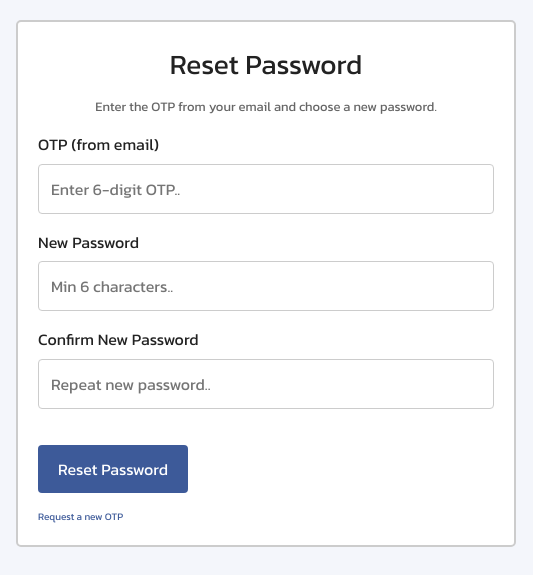
Test: ResetPassword — validation › shows error when passwords do not match
This screenshot has width=533, height=575.
In the field with placeholder "Enter 6-digit OTP..": point(266, 188) [38,164,494,214], type "123456"
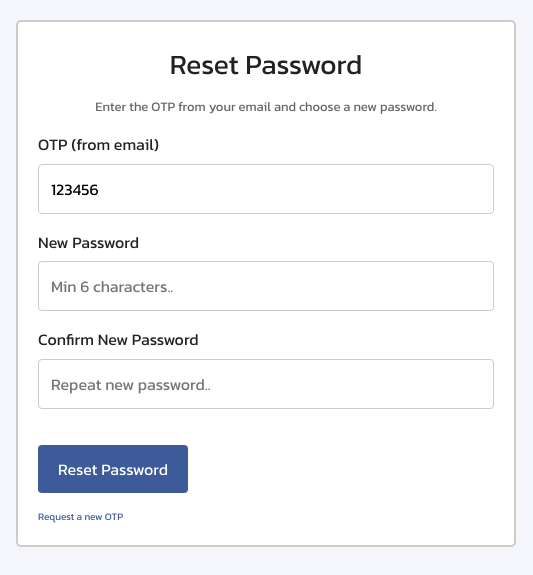
In the password field with placeholder "Min 6 characters..": point(266, 286) [38,261,494,311], type "newpass1"
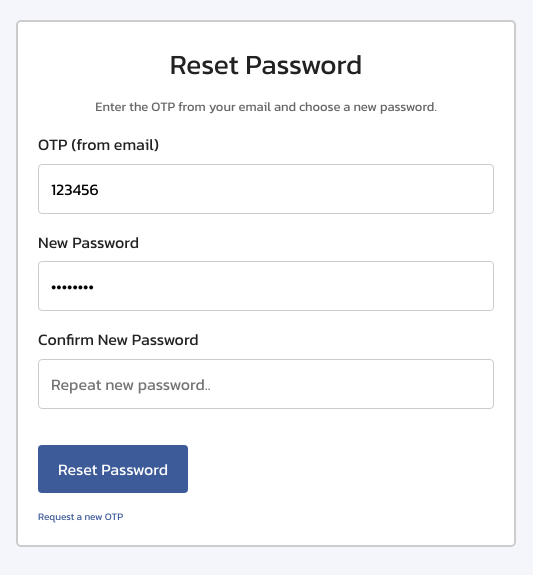
In the password field with placeholder "Repeat new password..": point(266, 384) [38,359,494,409], type "newpass2"
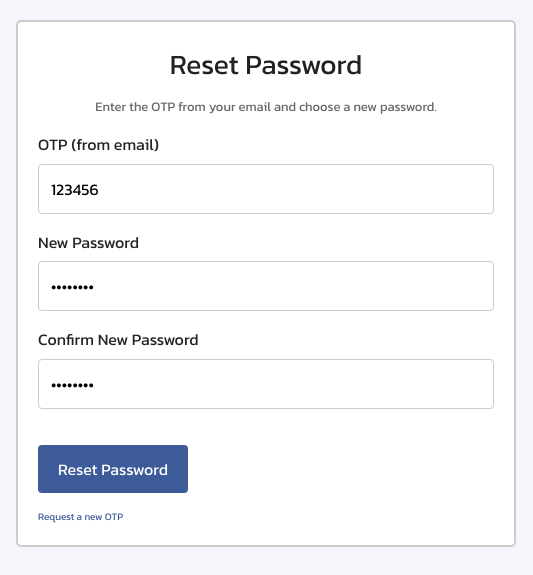
Click the button showing "Reset Password": point(113, 469) [38,445,188,493]
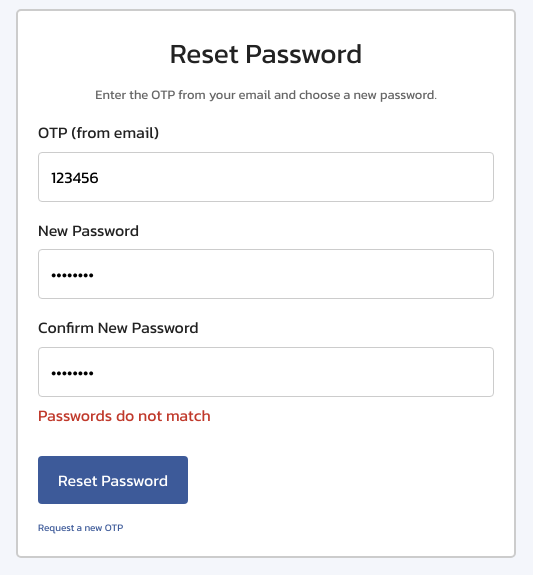
Expected: the text "Passwords do not match" is shown, [38,403,211,427]
